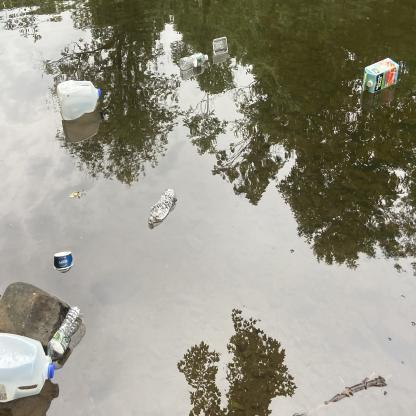trash: (0, 329, 59, 407), (42, 300, 88, 364), (55, 76, 103, 124), (360, 56, 402, 98), (146, 185, 178, 229), (50, 246, 76, 276), (177, 50, 209, 74), (210, 36, 228, 58)
